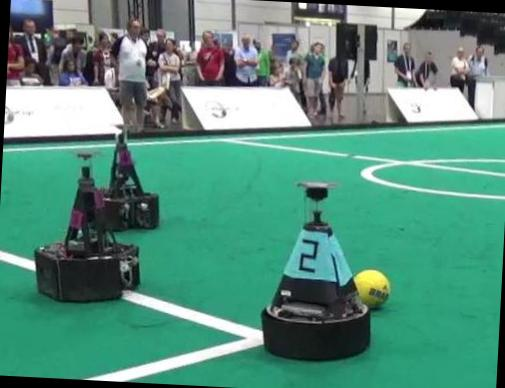ball: (353, 269, 389, 307)
robot: (261, 180, 369, 359), (34, 153, 138, 301), (102, 134, 159, 230)
